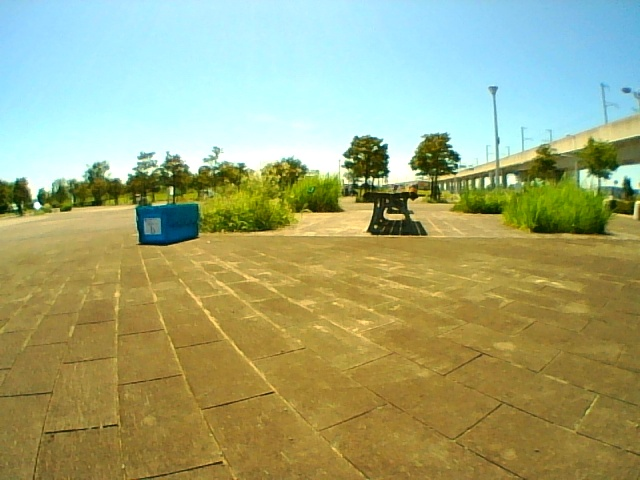blue_box: (139, 205, 198, 242)
tag_b: (144, 219, 160, 235)
